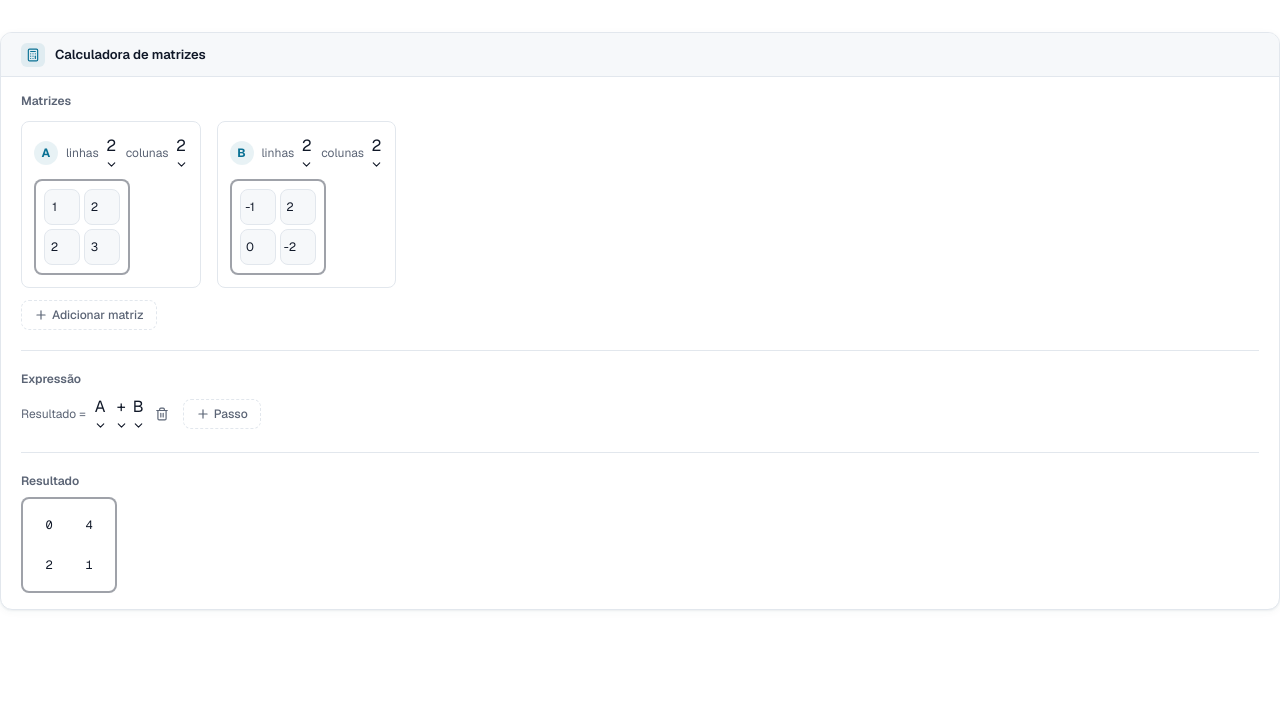
MatrixCalculator › removing the only step leaves the seed matrix as the result
Click the button named "Remover passo".
click(162, 414)  # box [149,400,175,426]
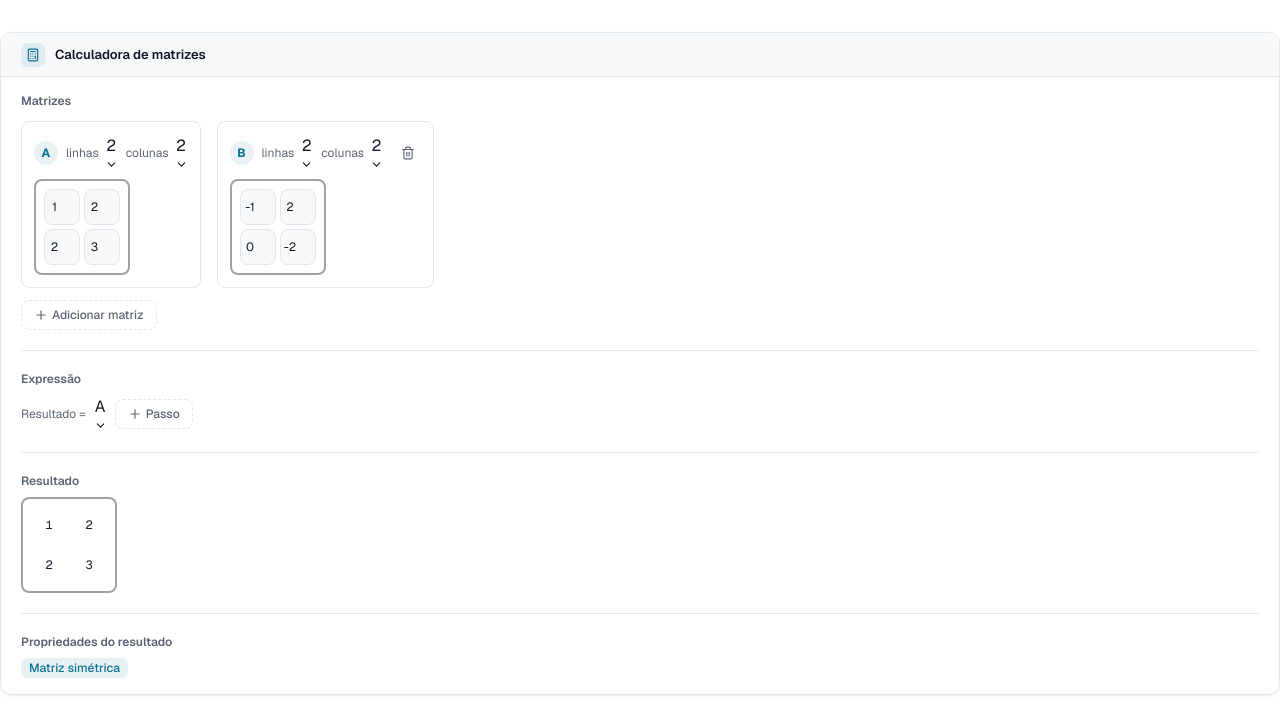
Expected: the text "Matriz simétrica" is shown, [21,658,128,678]
